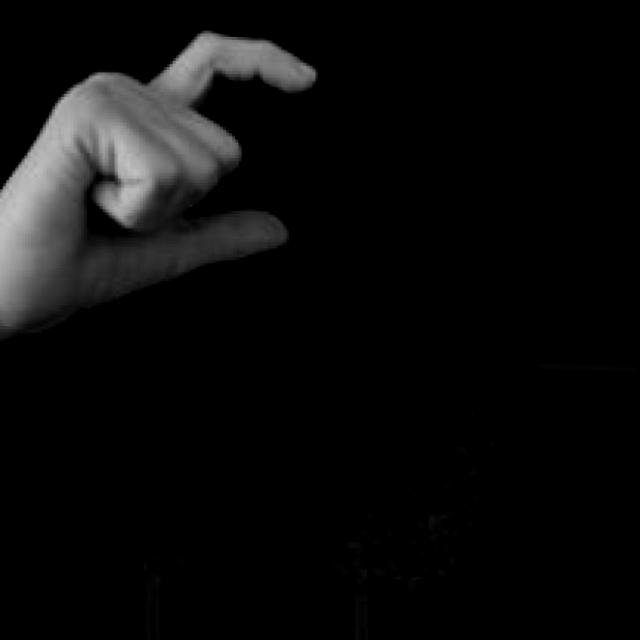C: (0, 15, 326, 363)
